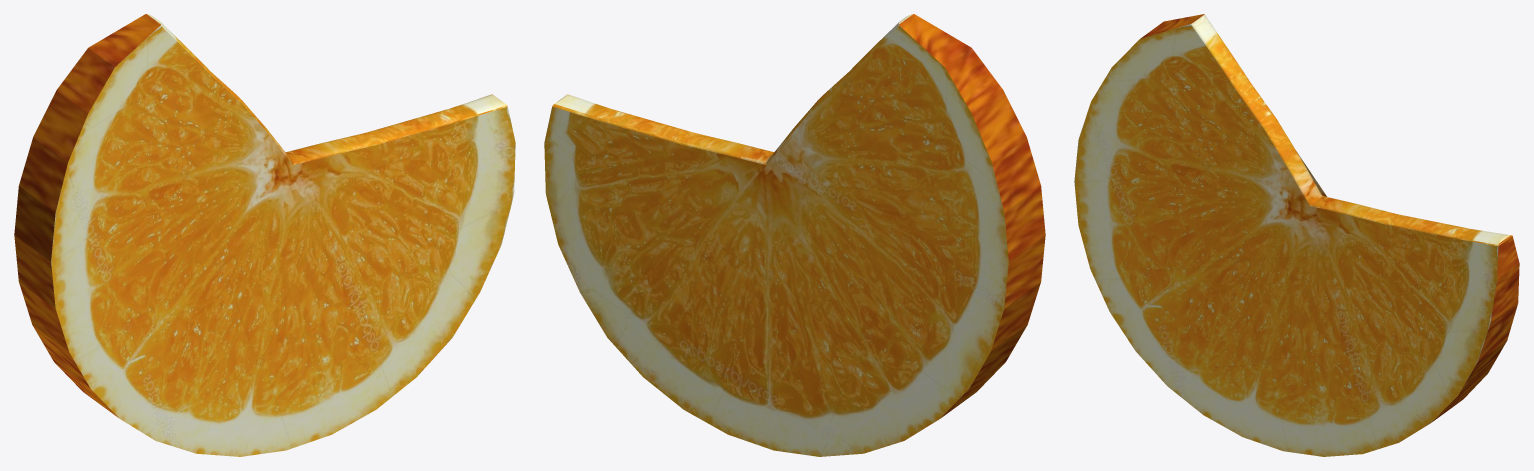
Rendered from Orange_Model.fbx.
3 renders of one model, left to right at view 1: azimuth 30°, elevation 25°; view 2: azimuth 150°, elevation 25°; view 3: azimuth 330°, elevation 25°, orthographic. The views are drawn at different scales.
Visible parts, largest first — view 1: Orange; view 2: Orange; view 3: Orange.
Part boxes in pixels (x1,y1,x2,y2): Orange: (14,14,515,456); Orange: (544,14,1045,456); Orange: (1074,14,1519,456).
Bounding box in the file's own units: 318 × 288 × 43.04.
3 materials, 3 textured.
